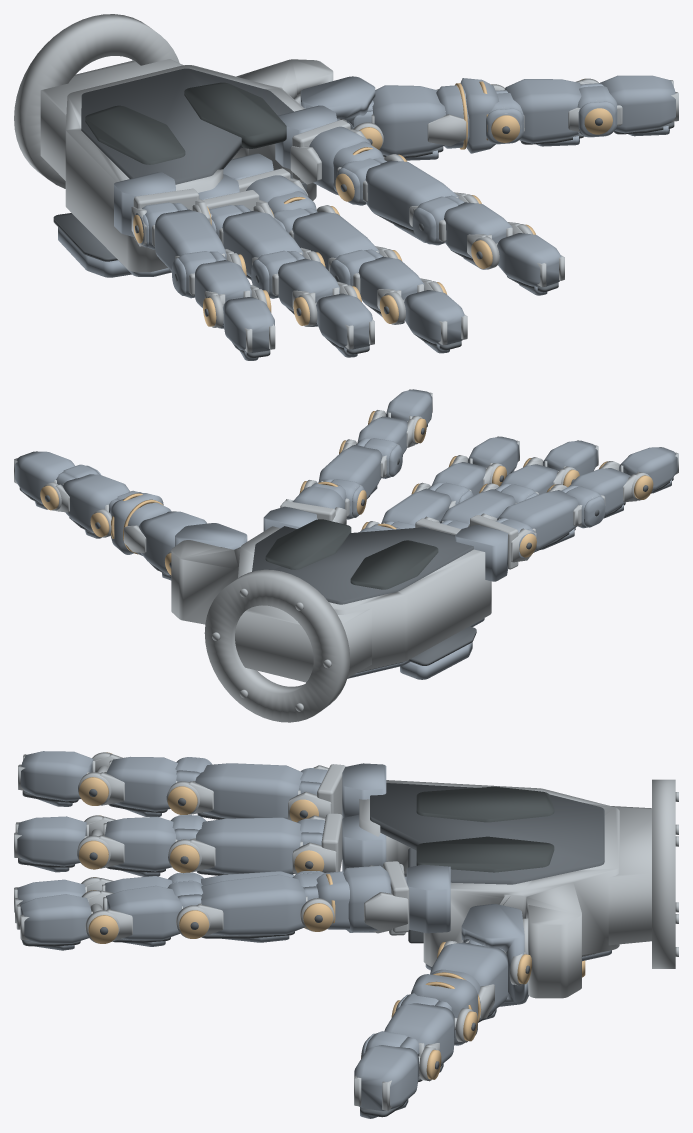
Rendered from helix15.glb.
3 views of the same model, one above another, from view 1: azimuth 30°, elevation 25°; view 2: azimuth 150°, elevation 25°; view 3: azimuth 270°, elevation 25° (orthographic). The views are drawn at different scales.
Parts seen in each view (by area): view 1: visual__central_palm__0, visual__central_palm__1, visual__central_palm__4, visual__central_palm__3, visual__thumb_metacarpal__0, visual__thumb_proximal__0, visual__index_proximal__0, visual__ring_proximal__0, visual__little_proximal__0, visual__middle_proximal__0, visual__thumb_distal__0, visual__thumb_roll_link__1 (+25 smaller); view 2: visual__central_palm__0, visual__central_palm__1, visual__central_palm__4, visual__central_palm__3, visual__little_proximal__0, visual__index_proximal__0, visual__thumb_proximal__0, visual__thumb_metacarpal__0, visual__middle_proximal__0, visual__ring_proximal__0, visual__thumb_distal__0, visual__little_distal__0 (+14 smaller); view 3: visual__central_palm__0, visual__central_palm__1, visual__central_palm__4, visual__central_palm__3, visual__index_proximal__0, visual__ring_proximal__0, visual__little_proximal__0, visual__thumb_distal__0, visual__thumb_proximal__0, visual__index_distal__0, visual__index_middle__0, visual__ring_distal__0 (+32 smaller).
Part boxes in pixels (x1,y1,x2,y2): visual__central_palm__0: (14, 14, 333, 272); visual__central_palm__1: (53, 68, 306, 261); visual__central_palm__4: (85, 82, 286, 164); visual__central_palm__3: (58, 105, 337, 277); visual__thumb_metacarpal__0: (372, 85, 469, 160); visual__thumb_proximal__0: (505, 79, 617, 146); visual__index_proximal__0: (365, 160, 464, 245); visual__ring_proximal__0: (222, 211, 305, 298); visual__little_proximal__0: (155, 209, 226, 298); visual__middle_proximal__0: (292, 211, 383, 286); visual__thumb_distal__0: (599, 75, 675, 136); visual__thumb_roll_link__1: (460, 78, 523, 153); visual__central_palm__0: (171, 526, 491, 722); visual__central_palm__1: (252, 526, 476, 672); visual__central_palm__4: (265, 519, 438, 589); visual__central_palm__3: (263, 506, 508, 679); visual__little_proximal__0: (497, 485, 605, 551); visual__index_proximal__0: (318, 438, 402, 499); visual__thumb_proximal__0: (56, 464, 129, 538); visual__thumb_metacarpal__0: (128, 502, 207, 580); visual__middle_proximal__0: (381, 482, 473, 524); visual__ring_proximal__0: (440, 483, 538, 523); visual__thumb_distal__0: (15, 451, 75, 509); visual__little_distal__0: (619, 447, 677, 493); visual__central_palm__0: (359, 779, 678, 998); visual__central_palm__1: (370, 783, 604, 956); visual__central_palm__4: (416, 786, 554, 872); visual__central_palm__3: (342, 763, 611, 1006); visual__index_proximal__0: (167, 874, 306, 942); visual__ring_proximal__0: (170, 815, 301, 874); visual__little_proximal__0: (175, 757, 302, 819); visual__thumb_distal__0: (354, 1045, 418, 1118); visual__thumb_proximal__0: (361, 1003, 454, 1076); visual__index_distal__0: (20, 894, 91, 950); visual__index_middle__0: (106, 885, 181, 946); visual__ring_distal__0: (17, 816, 86, 872).
Size of the model in its own units: 0.2134 by 0.056 by 0.1966.
